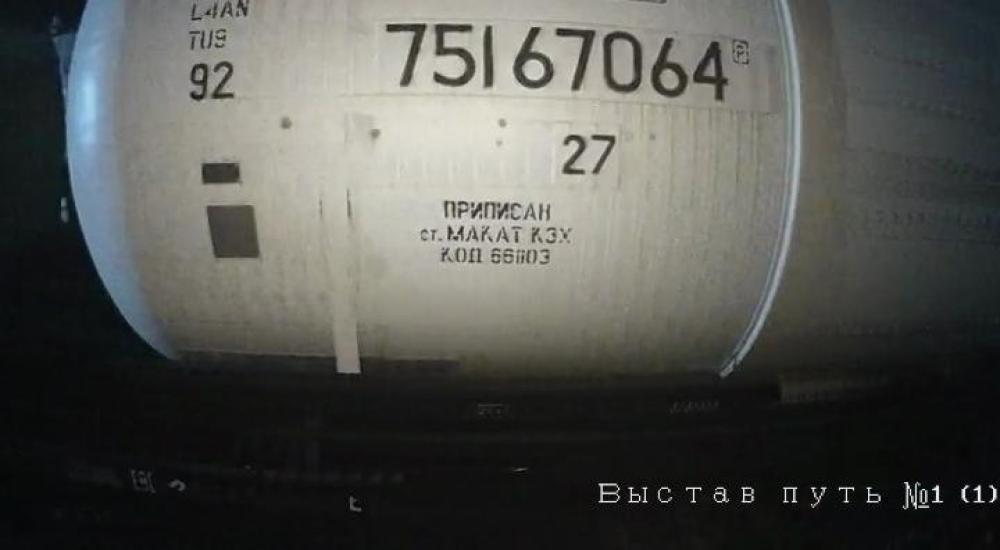Wagon-number: (383, 17, 734, 107)
